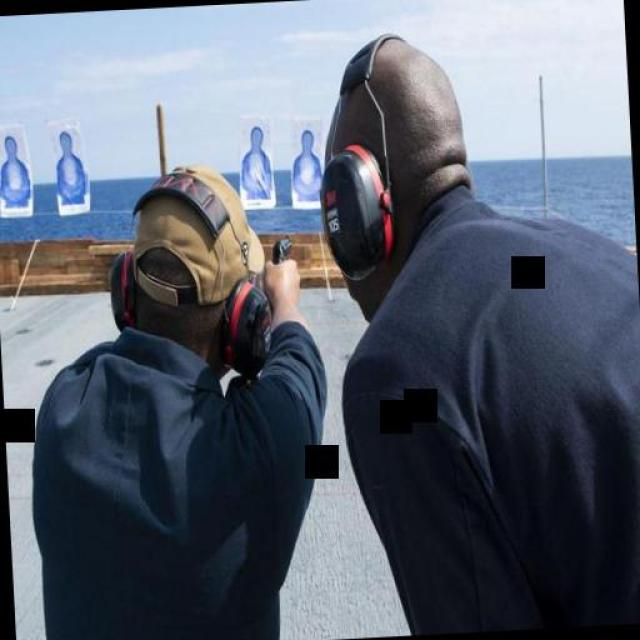gun: (269, 231, 295, 269)
